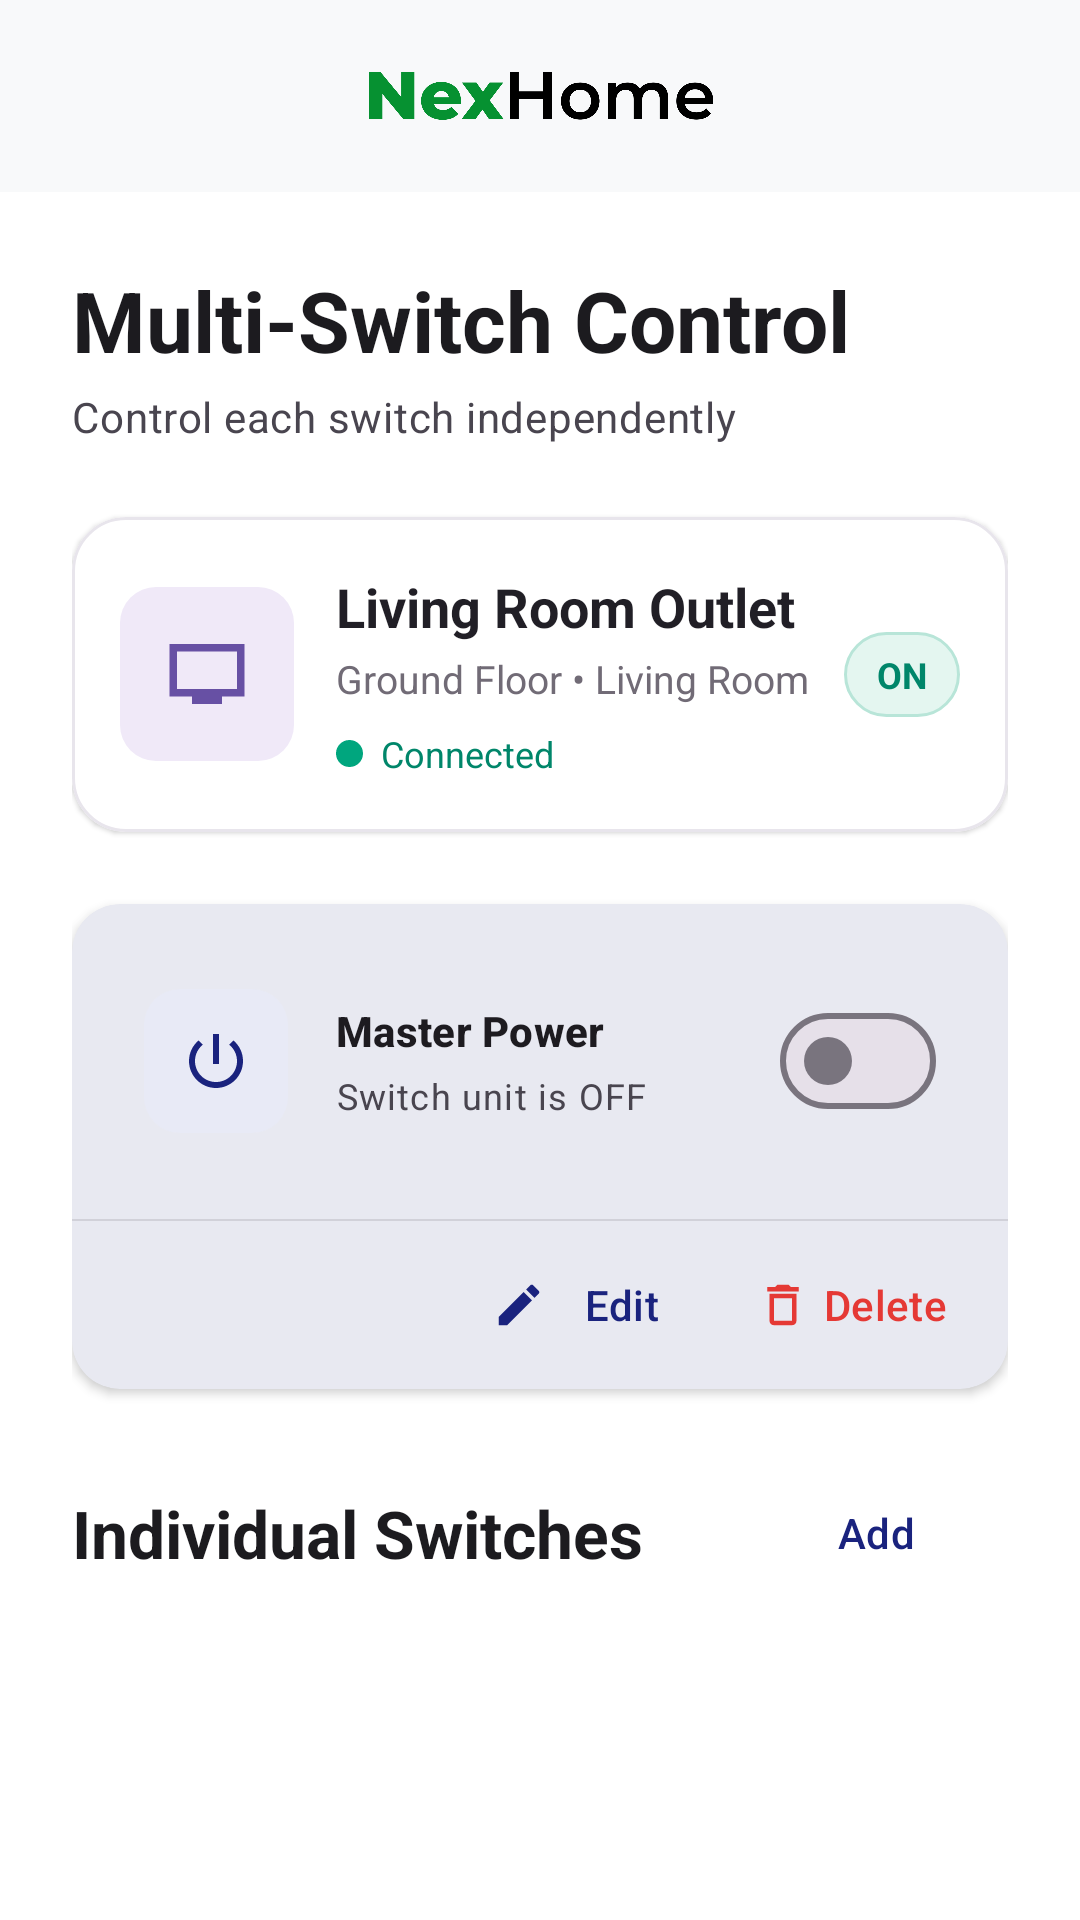

Icon click points for this 1080w x 1920h phone screenshot, format (x,y):
Device icon: (207,674)
